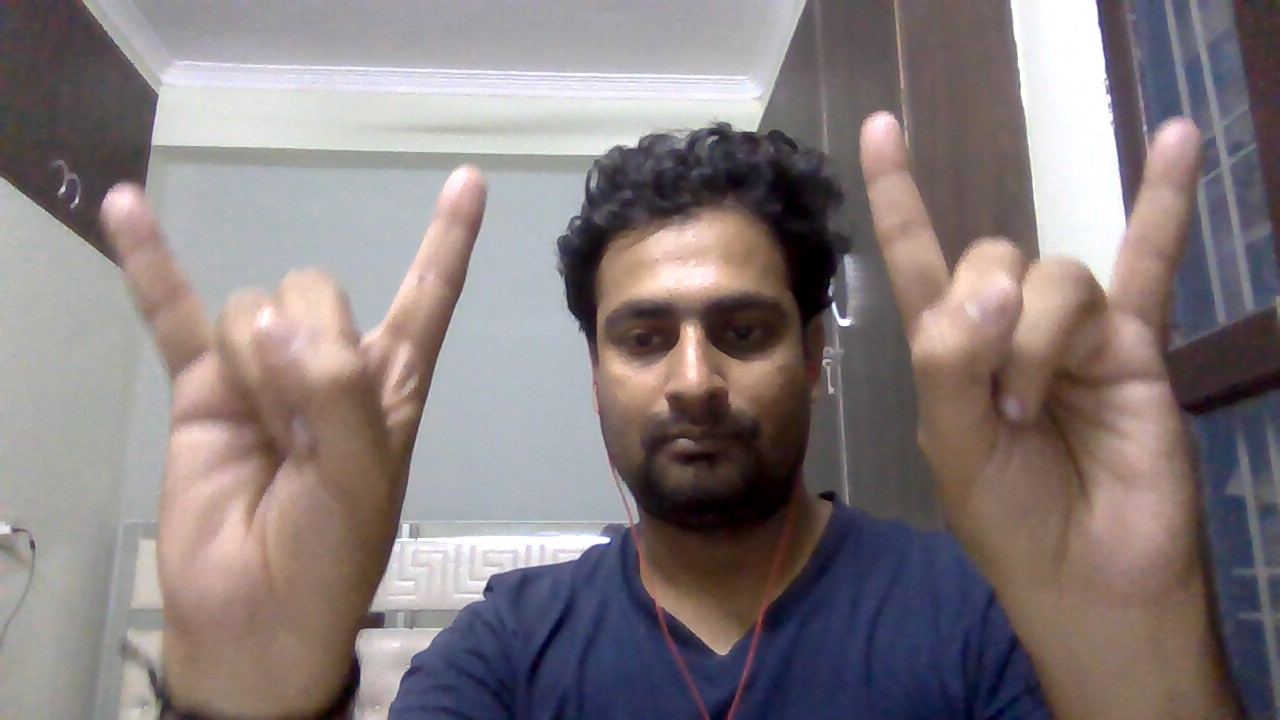Select All: (59, 152, 500, 644), (844, 92, 1238, 618)
